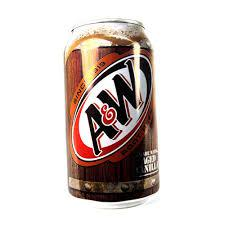beer: (62, 19, 164, 208)
